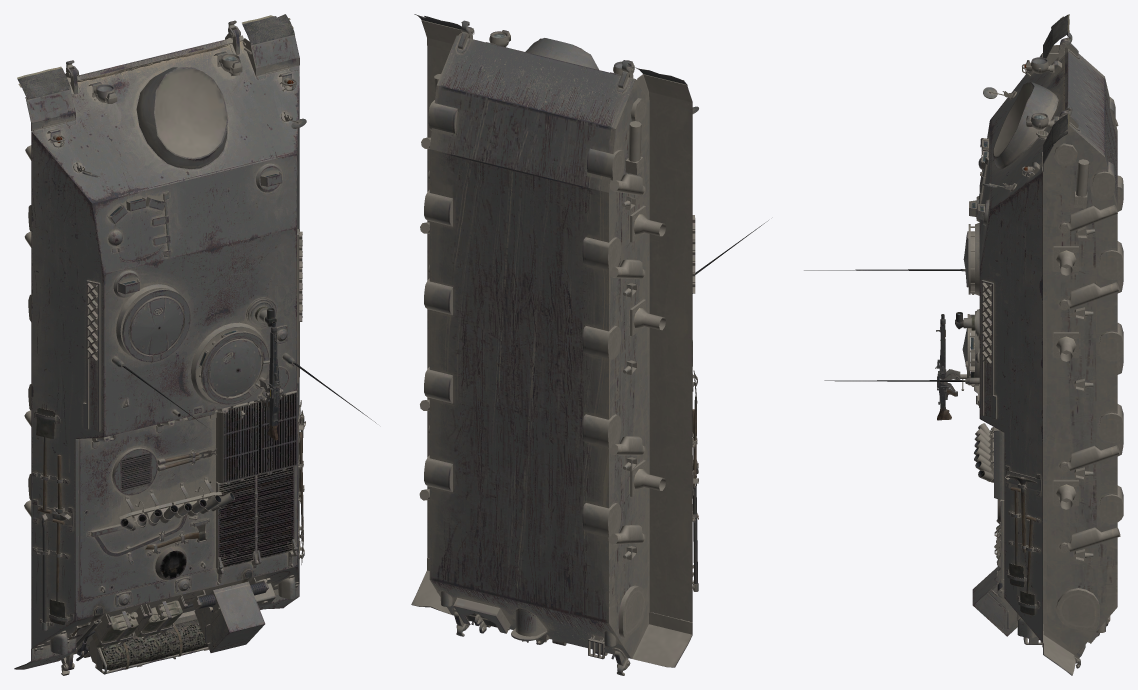
Rendered from Hull.glb.
3 renders of one model, left to right at view 1: azimuth 30°, elevation 25°; view 2: azimuth 150°, elevation 25°; view 3: azimuth 270°, elevation 25°, orthographic. The views are drawn at different scales.
Visible parts, largest first — view 1: set_0_group_0; view 2: set_0_group_0; view 3: set_0_group_0.
Boxes of the visible parts, x1,y1,x2,y2 form: set_0_group_0: (14,14,376,675); set_0_group_0: (411,14,768,675); set_0_group_0: (804,14,1123,675).
Bounding box in the file's own units: 3.01 × 6.56 × 3.39.
1 material, 1 textured.
